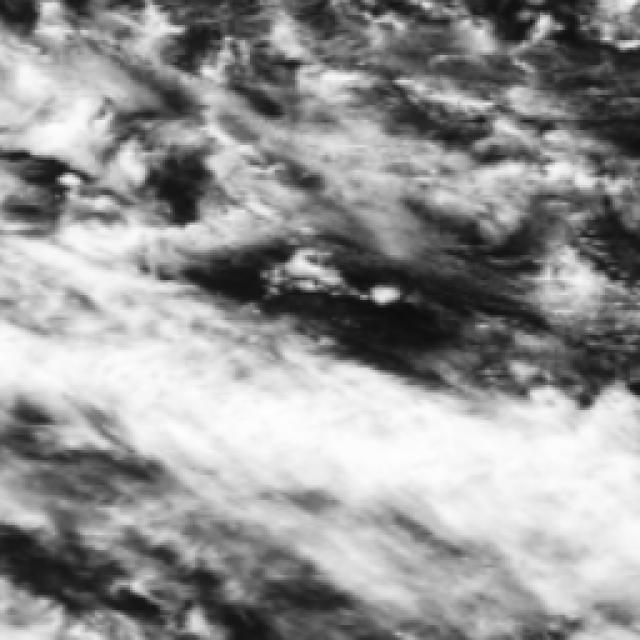CB: (390, 413, 640, 505), (219, 377, 388, 468)
